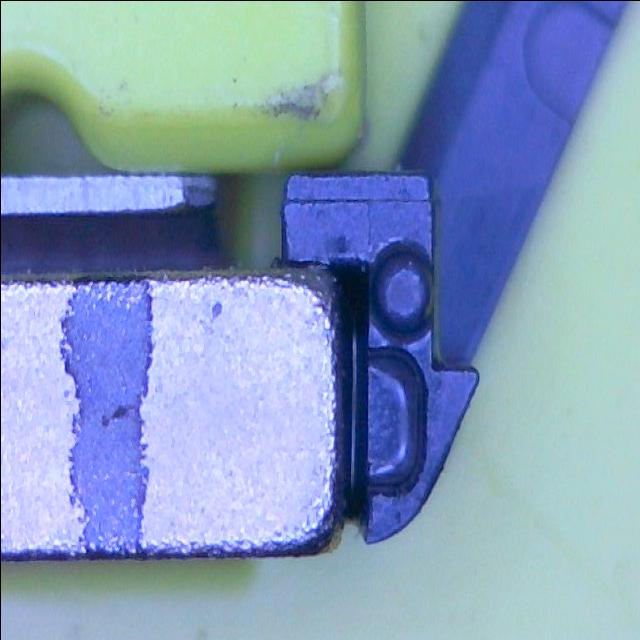good: (356, 344, 428, 499)
